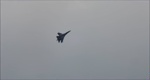maybay_muctieu: (55, 29, 71, 44)
